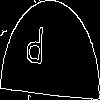P: (25, 25, 45, 73)
